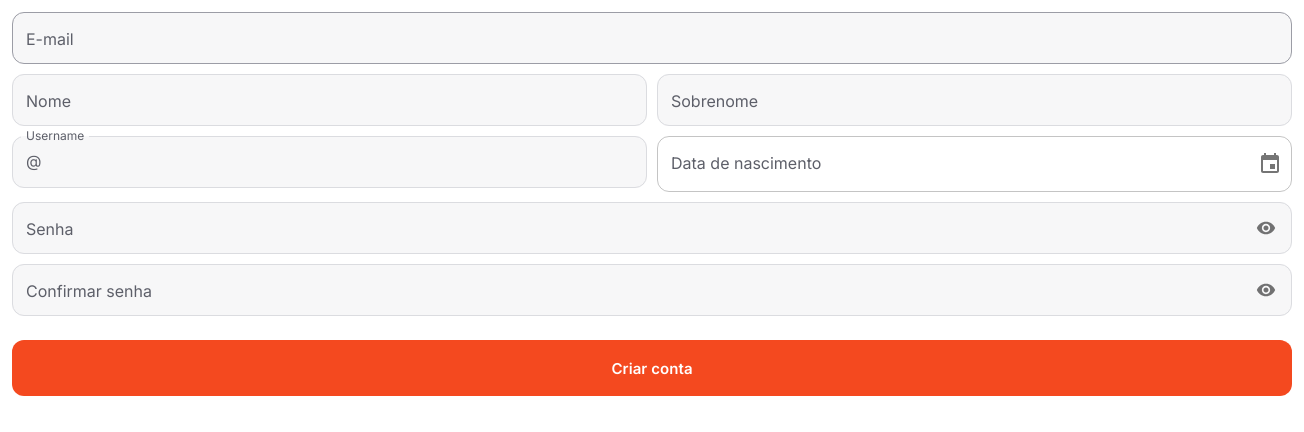
Scenario: CreateAccountForm › checks availability and reports an available username
The image size is (1304, 432).
Type "novo_usuario" into the field labelled "Username".
click(348, 162); type("novo_usuario")  # box [50,136,647,188]
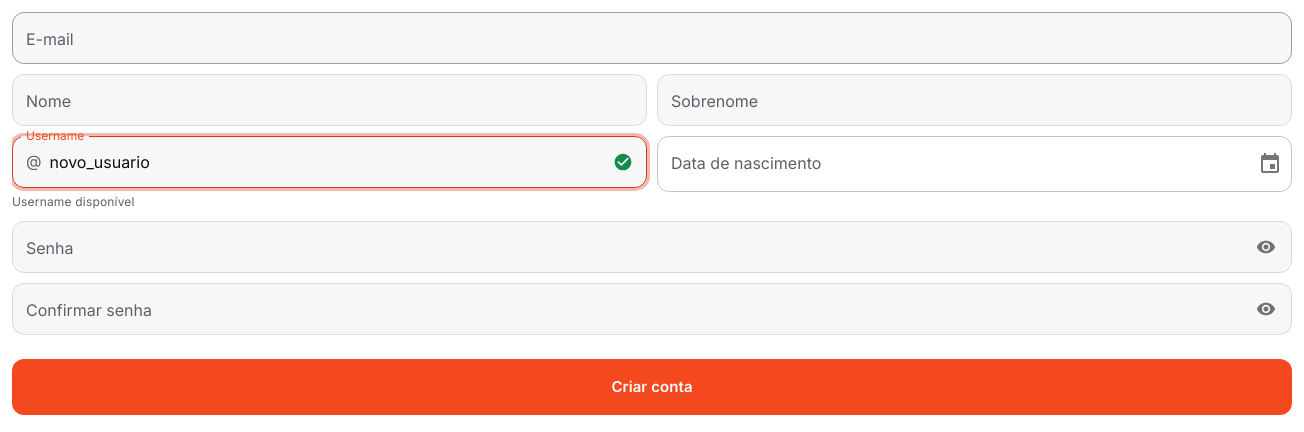
Expected: the text "Username disponível" is shown, [12,194,135,209]
